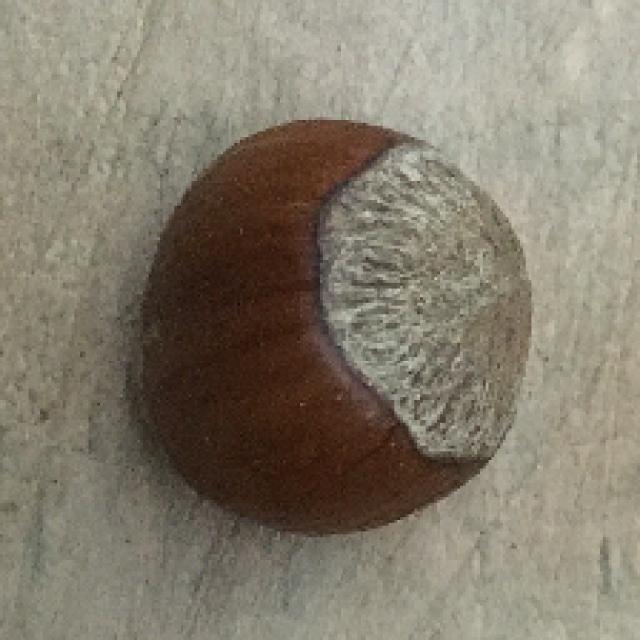QualityHazelnut: (135, 116, 533, 544)
